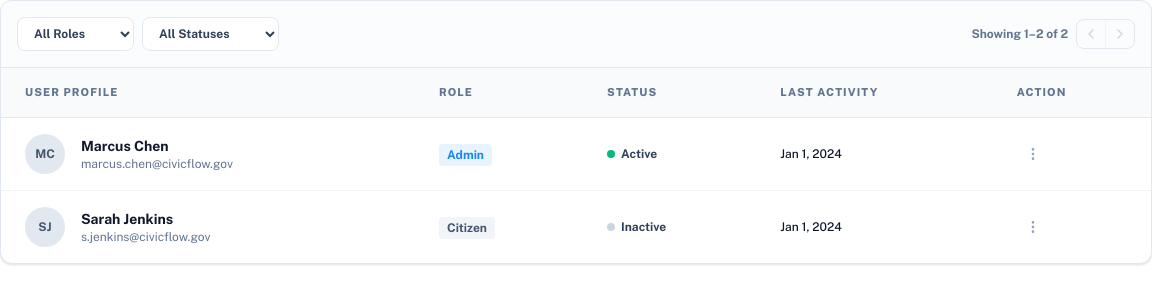
Scenario: UsersTable › renders empty state when no users match filter
Select "Staff" in the dropdown named "filter by role" at (76, 34), box left=17, top=17, right=134, bottom=51
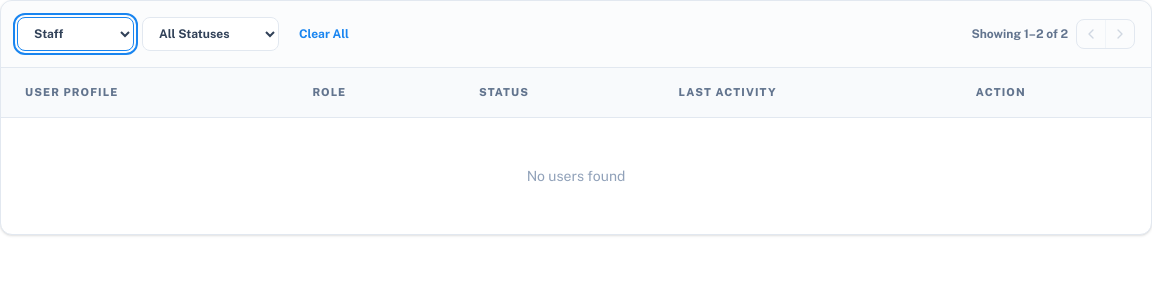
Result: the text "No users found" is shown at left=1, top=117, right=1151, bottom=234
